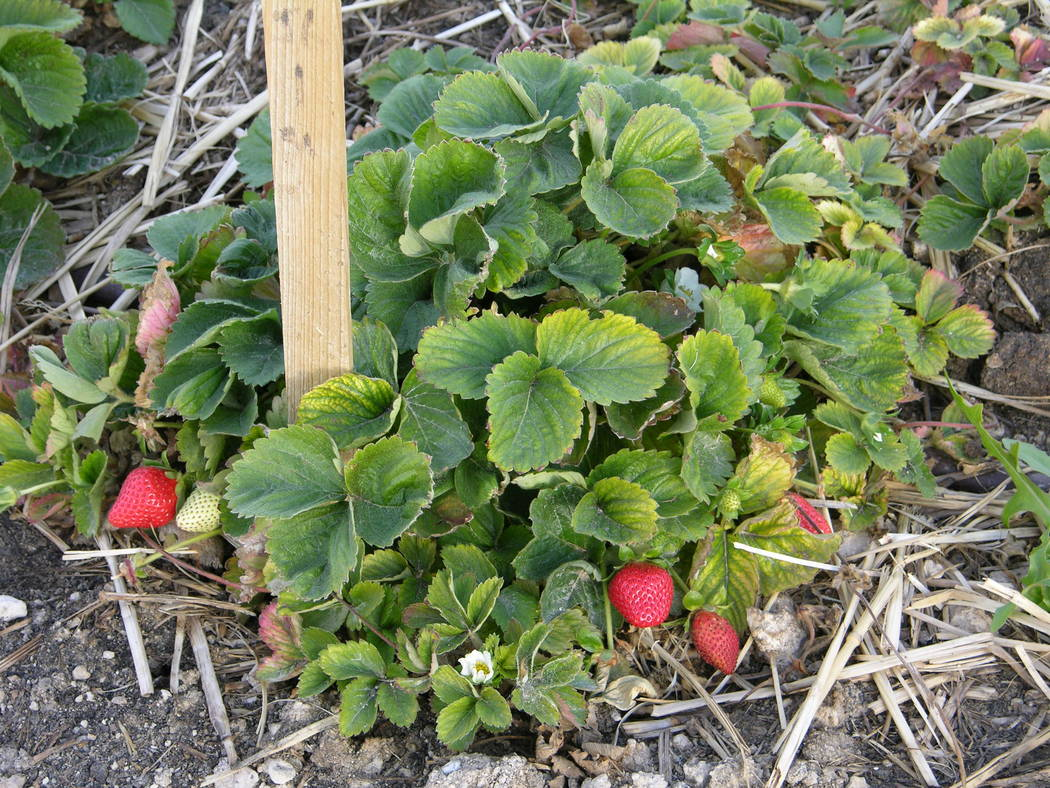ripe_strawberry: (605, 553, 676, 630), (105, 462, 183, 532), (687, 602, 742, 677), (781, 491, 833, 537)
unripe_strawberry: (173, 482, 229, 534), (752, 370, 789, 411), (716, 485, 744, 516)
